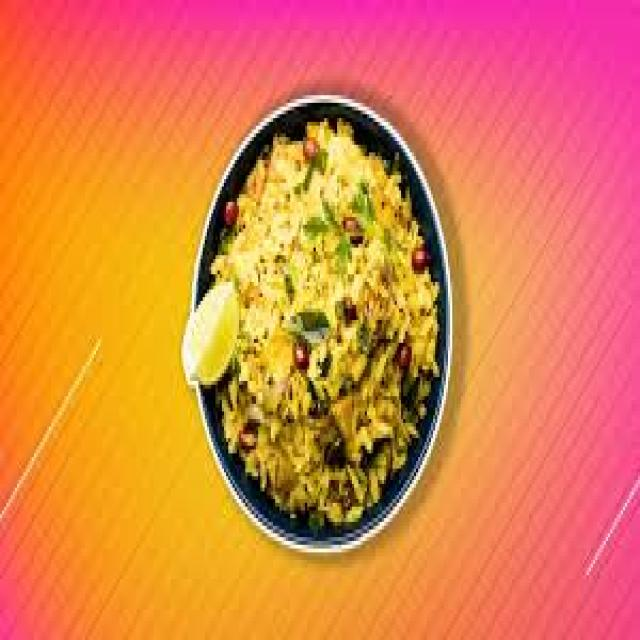POHA: (196, 107, 448, 533)
